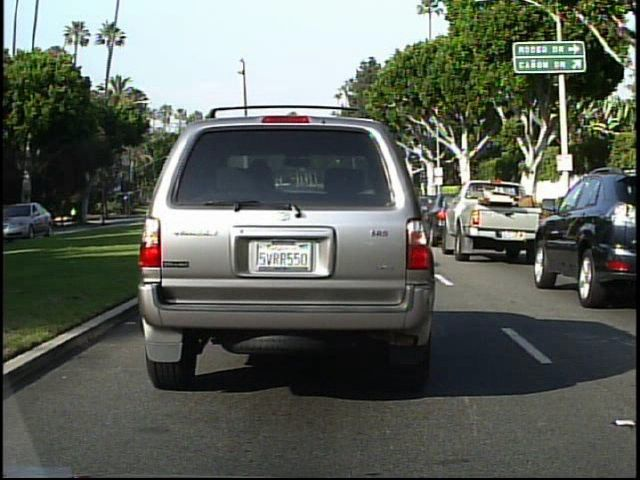person: (69, 206, 79, 224)
